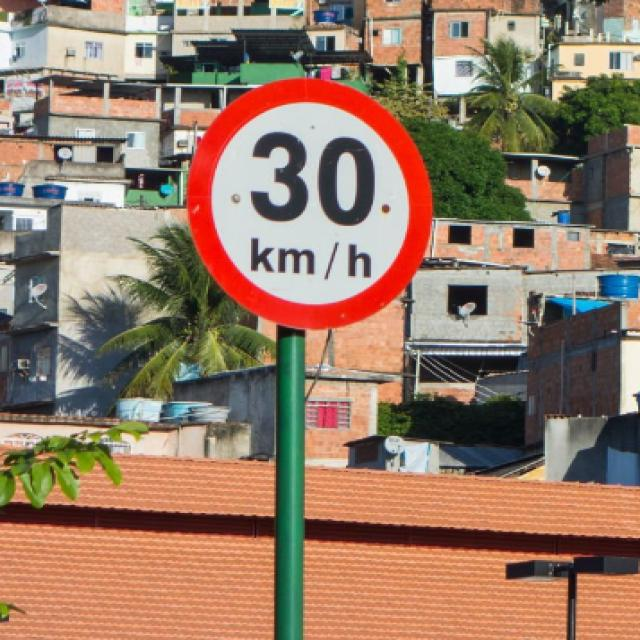Speed limit 30: (184, 75, 437, 332)
